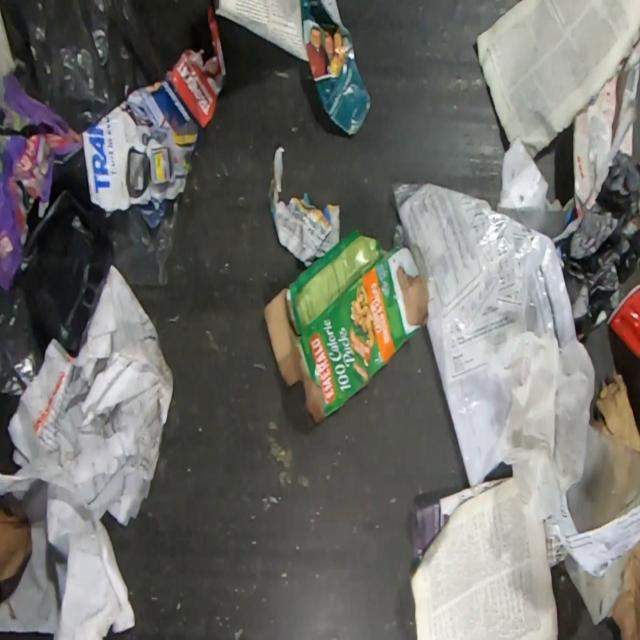cardboard: (260, 228, 426, 426), (572, 66, 640, 220), (0, 493, 32, 608)
rigid_plastic: (18, 166, 110, 353), (606, 282, 640, 364)
soft_plastic: (392, 180, 576, 487), (553, 33, 640, 339), (0, 0, 163, 133), (102, 196, 180, 287), (0, 287, 53, 394)
